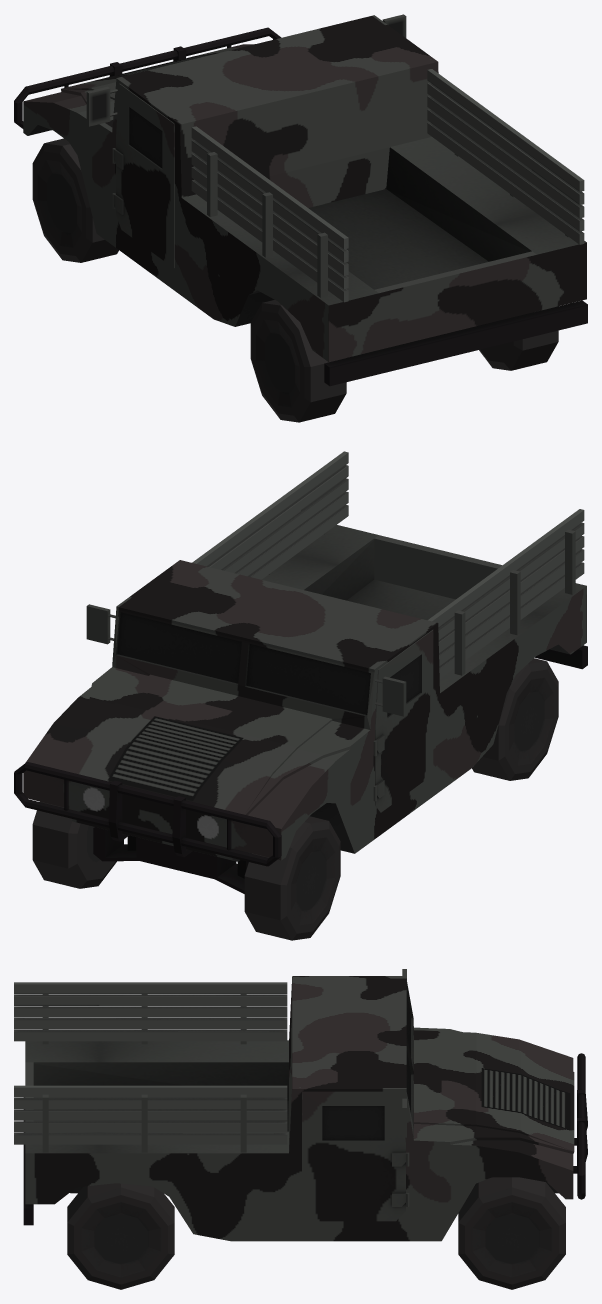
File: HMMWV_Truck.fbx
3 renders of one model, top to bottom at view 1: azimuth 30°, elevation 25°; view 2: azimuth 150°, elevation 25°; view 3: azimuth 270°, elevation 25°, orthographic. The views are drawn at different scales.
Parts seen in each view (by area): view 1: HMMWV_Truck_Body, HMMWV_Truck_Wood_Bed_Right, HMMWV_Truck_Wood_Bed_Left, HMMWV_Truck_Door_Left_Front, HMMWV_Truck_Trunk_Lower, HMMWV_Truck_Wheel_Back_Left, HMMWV_Truck_Wheel_Front_Left, HMMWV_Truck_Bumper, HMMWV_Truck_Posts_Left, HMMWV_Truck_Wheel_Back_Right, HMMWV_Truck_Window_Left; view 2: HMMWV_Truck_Body, HMMWV_Truck_Wood_Bed_Left, HMMWV_Truck_Wood_Bed_Right, HMMWV_Truck_Wheel_Front_Left, HMMWV_Truck_Door_Left_Front, HMMWV_Truck_Bumper, HMMWV_Truck_Wheel_Back_Left, HMMWV_Truck_Trunk_Lower, HMMWV_Truck_Wheel_Front_Right, HMMWV_Truck_Axle_Front, HMMWV_Truck_Posts_Left, HMMWV_Truck_Window_Left (+1 smaller); view 3: HMMWV_Truck_Body, HMMWV_Truck_Wood_Bed_Left, HMMWV_Truck_Wood_Bed_Right, HMMWV_Truck_Door_Right_Front, HMMWV_Truck_Wheel_Front_Right, HMMWV_Truck_Wheel_Back_Right, HMMWV_Truck_Bumper, HMMWV_Truck_Posts_Right.
Part boxes in pixels (x1,y1,x2,y2): HMMWV_Truck_Body: (23, 15, 587, 386); HMMWV_Truck_Wood_Bed_Right: (427, 69, 584, 244); HMMWV_Truck_Wood_Bed_Left: (191, 126, 348, 302); HMMWV_Truck_Door_Left_Front: (112, 83, 174, 267); HMMWV_Truck_Trunk_Lower: (374, 251, 536, 334); HMMWV_Truck_Wheel_Back_Left: (250, 300, 346, 422); HMMWV_Truck_Wheel_Front_Left: (32, 138, 118, 262); HMMWV_Truck_Bumper: (14, 27, 281, 128); HMMWV_Truck_Posts_Left: (207, 152, 327, 297); HMMWV_Truck_Wheel_Back_Right: (479, 330, 558, 370); HMMWV_Truck_Window_Left: (86, 86, 117, 126); HMMWV_Truck_Body: (23, 525, 587, 861); HMMWV_Truck_Wood_Bed_Left: (428, 509, 584, 678); HMMWV_Truck_Wood_Bed_Right: (192, 451, 348, 579); HMMWV_Truck_Wheel_Front_Left: (244, 816, 340, 940); HMMWV_Truck_Door_Left_Front: (373, 630, 433, 812); HMMWV_Truck_Bumper: (14, 762, 281, 866); HMMWV_Truck_Wheel_Back_Left: (472, 658, 558, 780); HMMWV_Truck_Trunk_Lower: (374, 535, 502, 599); HMMWV_Truck_Wheel_Front_Right: (32, 801, 116, 888); HMMWV_Truck_Axle_Front: (93, 827, 251, 893); HMMWV_Truck_Posts_Left: (454, 529, 575, 675); HMMWV_Truck_Window_Left: (375, 676, 406, 716); HMMWV_Truck_Body: (23, 976, 574, 1241); HMMWV_Truck_Wood_Bed_Left: (14, 982, 287, 1041); HMMWV_Truck_Wood_Bed_Right: (14, 1085, 287, 1144); HMMWV_Truck_Door_Right_Front: (302, 1091, 409, 1221); HMMWV_Truck_Wheel_Front_Right: (458, 1177, 565, 1289); HMMWV_Truck_Wheel_Back_Right: (67, 1183, 174, 1289); HMMWV_Truck_Bumper: (573, 1053, 587, 1199); HMMWV_Truck_Posts_Right: (42, 1094, 246, 1152).
Bounding box in the file's own units: 9.74 × 6.65 × 17.03.
